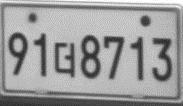1: (33, 32, 48, 79), (130, 35, 145, 82)
3: (150, 37, 172, 81)
7: (102, 35, 126, 80)
8: (80, 34, 102, 79)
9: (7, 31, 28, 75)
더: (53, 41, 76, 78)
